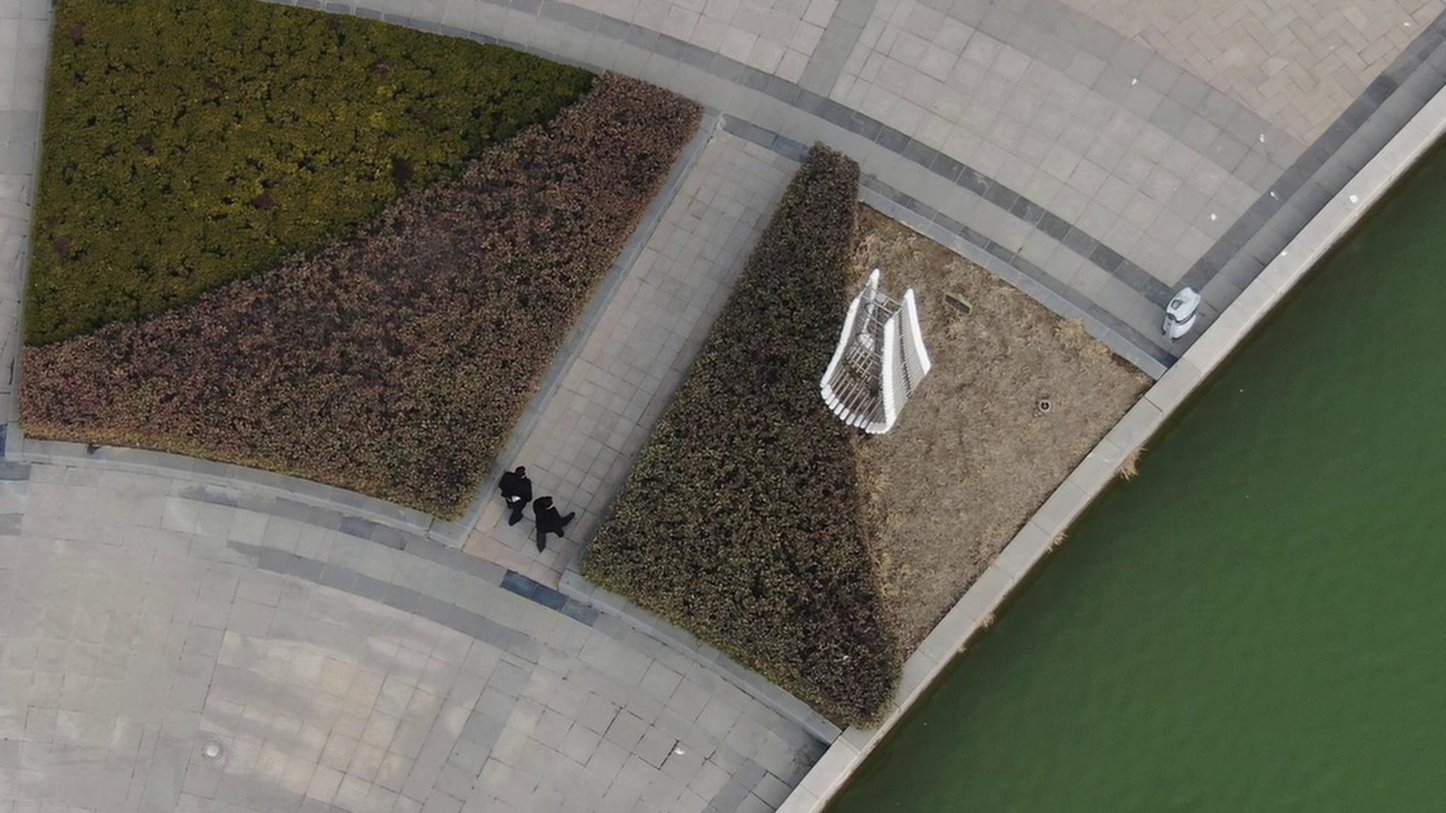human: (540, 480, 580, 542), (509, 455, 546, 511)
